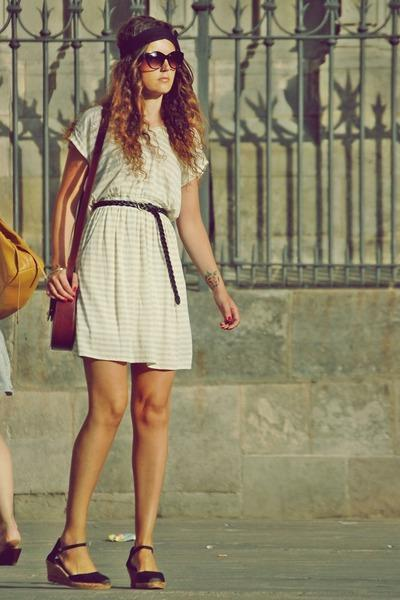bag: (48, 123, 107, 350)
dress: (60, 108, 195, 369)
shoe: (46, 516, 164, 589)
sunglass: (156, 38, 185, 73)
